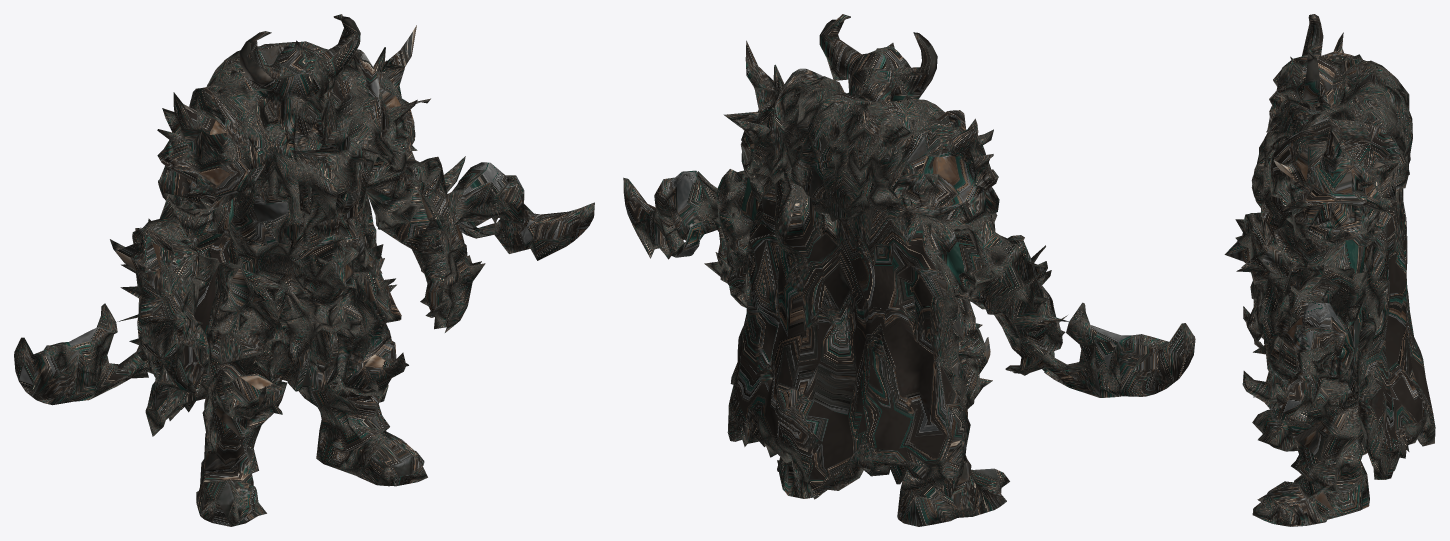
Rendered from scalekin_raider_warlord.glb.
3 views of the same model, side by side, from view 1: azimuth 30°, elevation 25°; view 2: azimuth 150°, elevation 25°; view 3: azimuth 270°, elevation 25° (orthographic). The views are drawn at different scales.
Parts seen in each view (by area): view 1: Mesh_0; view 2: Mesh_0; view 3: Mesh_0.
Boxes of the visible parts, bbox=[...] form: Mesh_0: bbox=[14, 14, 594, 526]; Mesh_0: bbox=[623, 14, 1195, 526]; Mesh_0: bbox=[1224, 14, 1435, 526].
Bounding box in the file's own units: 1.9 × 1.46 × 0.6267.
Materials: 1 (1 with a texture image).
